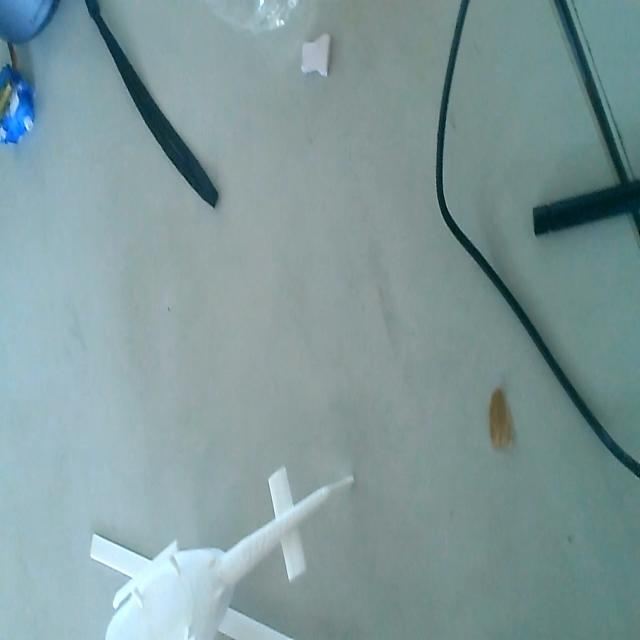Helicopter: (87, 474, 357, 640)
